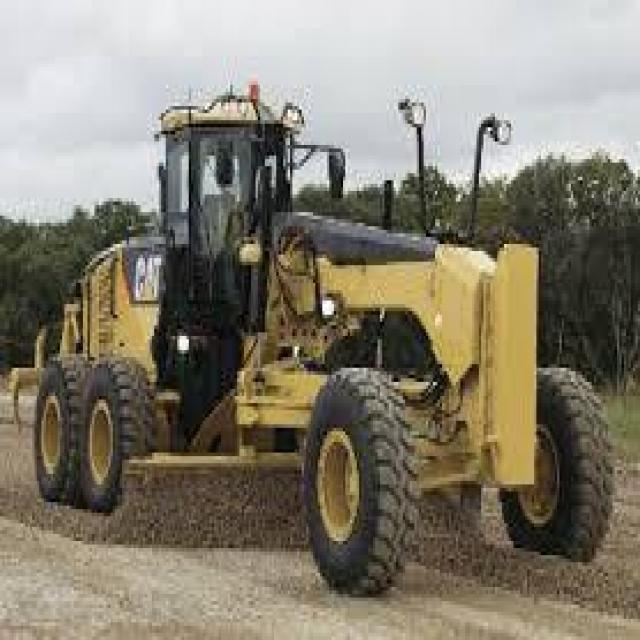Grader: (18, 85, 615, 605)
